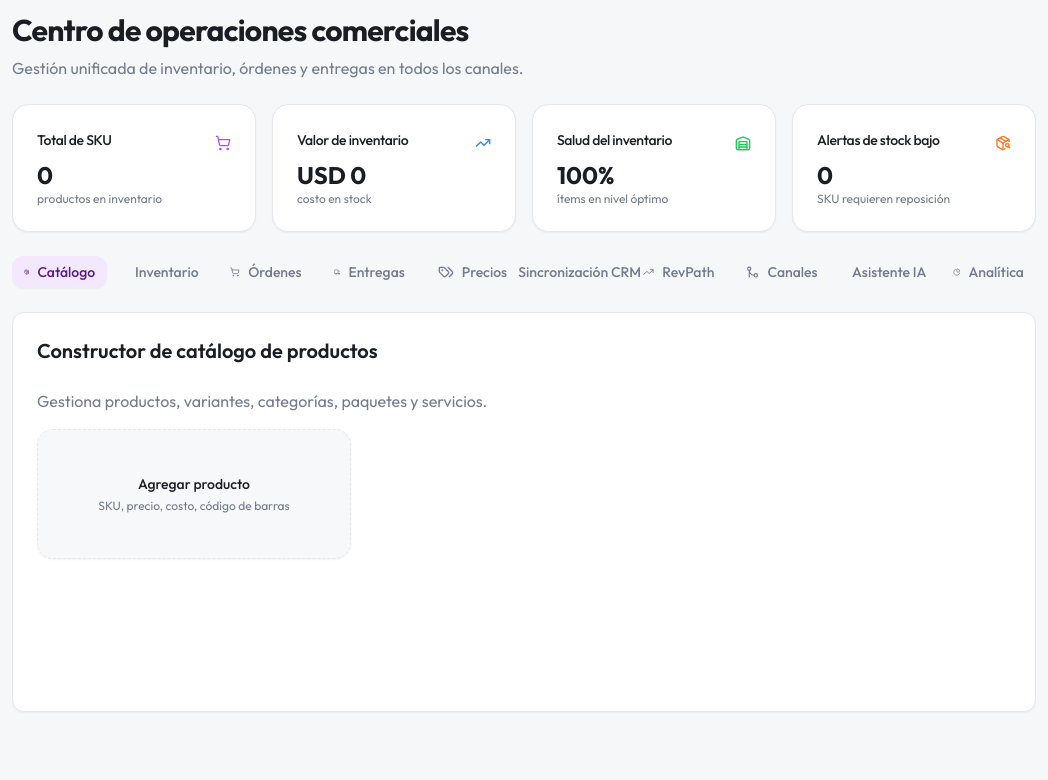
Test: InventoryOrders, in Spanish › falls back to the raw status for one the catalogue does not know
Press the mouse on the tab "Inventario": (163, 272) [115, 256, 210, 288]
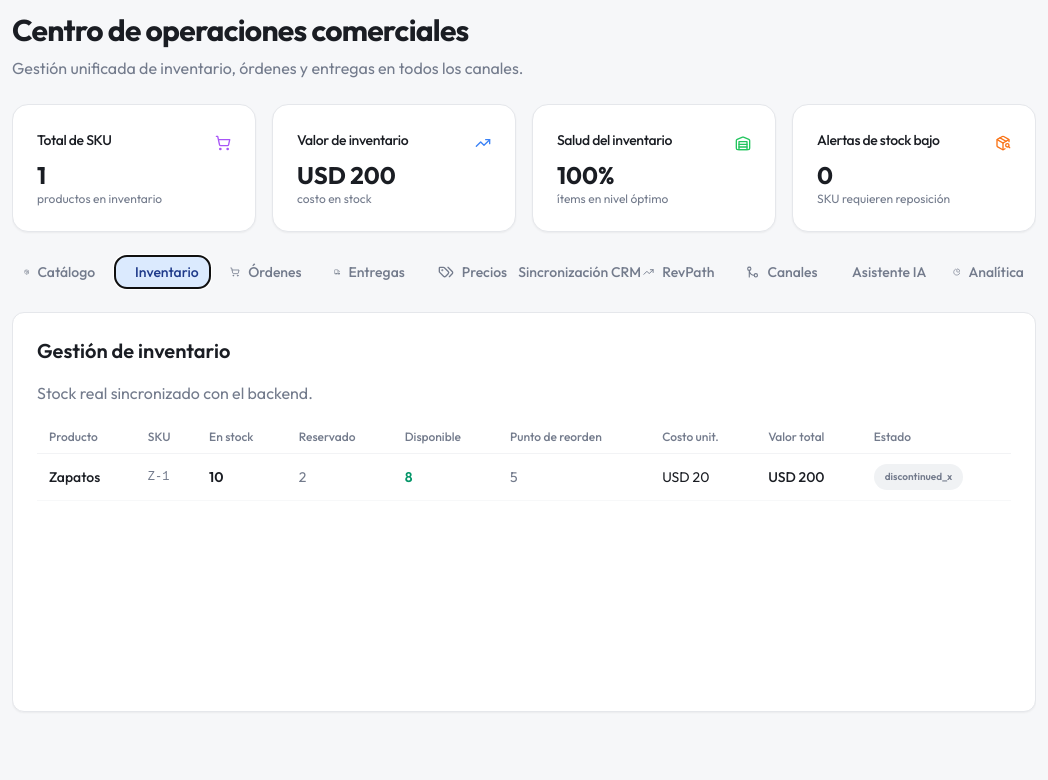
Check: the text "discontinued_x" is shown, box [874, 464, 963, 490]
